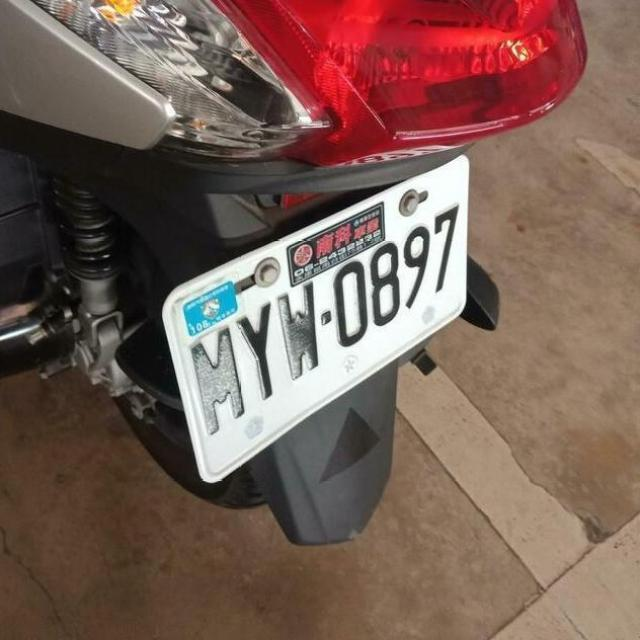W: (140, 153, 493, 477)
